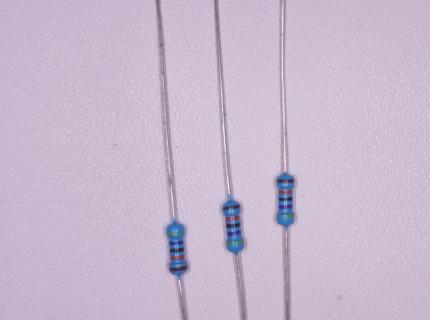Black band: (170, 247, 184, 253), (278, 196, 292, 201), (226, 223, 240, 228)
Brown band: (169, 265, 187, 272), (223, 205, 241, 211), (276, 178, 295, 183)
Orange band: (225, 215, 239, 221), (170, 255, 184, 260), (278, 189, 292, 194)
Violet band: (227, 230, 241, 236), (169, 240, 184, 245), (279, 204, 292, 209)
Yellow band: (226, 239, 244, 246), (166, 231, 184, 237), (276, 214, 294, 218)
